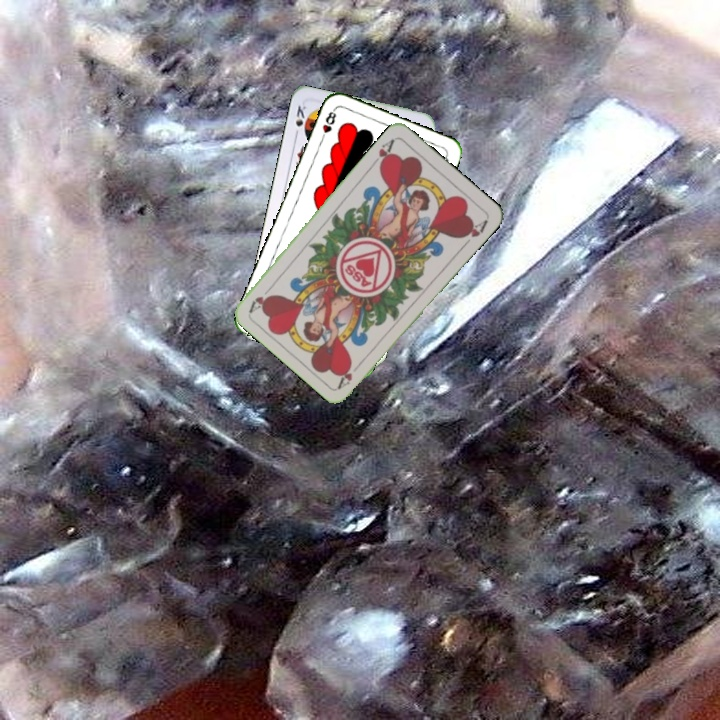H8: (317, 105, 339, 144)
HA: (334, 356, 365, 391), (367, 135, 397, 171)
SK: (291, 101, 309, 140)
